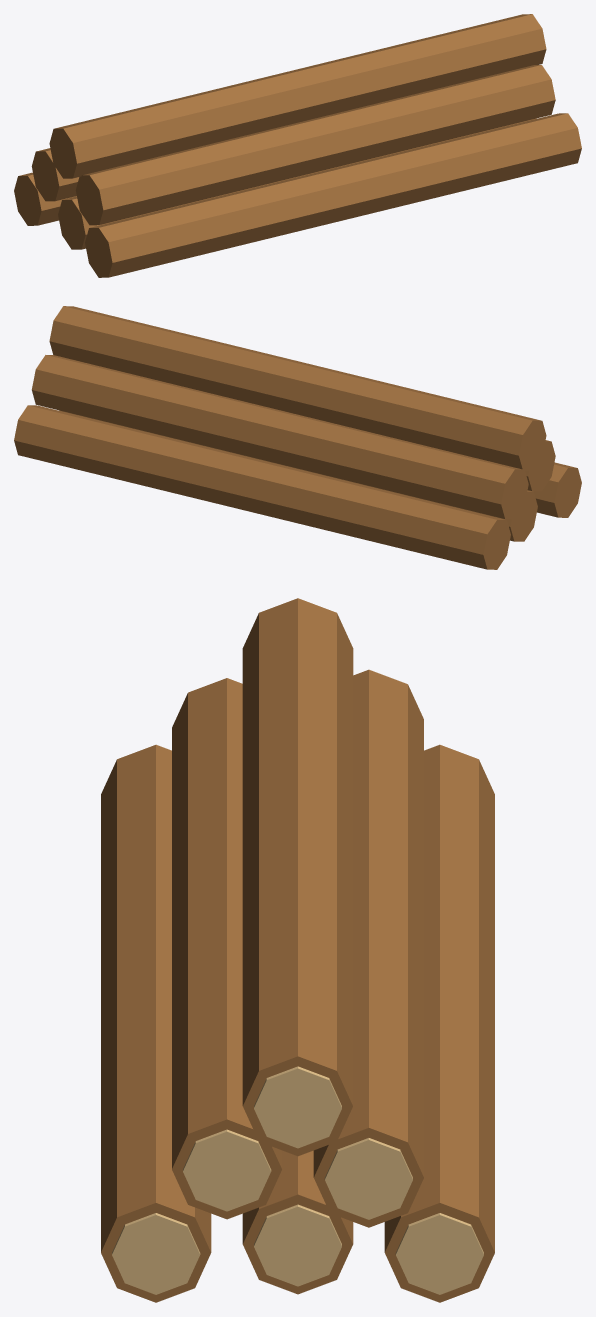
File: FTF_Prop_LongWoodPile_2_8m.glb
The picture shows the model from 3 angles, top to bottom: view 1: azimuth 30°, elevation 25°; view 2: azimuth 150°, elevation 25°; view 3: azimuth 270°, elevation 25°; orthographic projection. The views are drawn at different scales.
Visible parts, largest first — view 1: FTF_Prop_LongWoodPile_2_8m_Mesh; view 2: FTF_Prop_LongWoodPile_2_8m_Mesh; view 3: FTF_Prop_LongWoodPile_2_8m_Mesh.
Part boxes in pixels (x1=…): FTF_Prop_LongWoodPile_2_8m_Mesh: x1=14, y1=14, x2=581, y2=277; FTF_Prop_LongWoodPile_2_8m_Mesh: x1=14, y1=306, x2=581, y2=569; FTF_Prop_LongWoodPile_2_8m_Mesh: x1=101, y1=598, x2=494, y2=1302.
Bounding box in the file's own units: 2.76 × 0.69 × 1.
